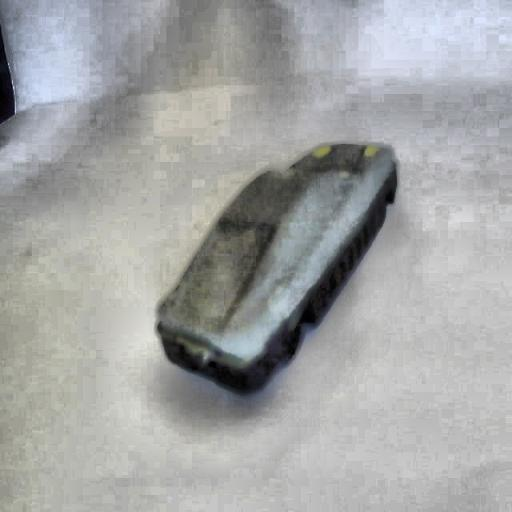normal_car: (151, 140, 398, 397)
